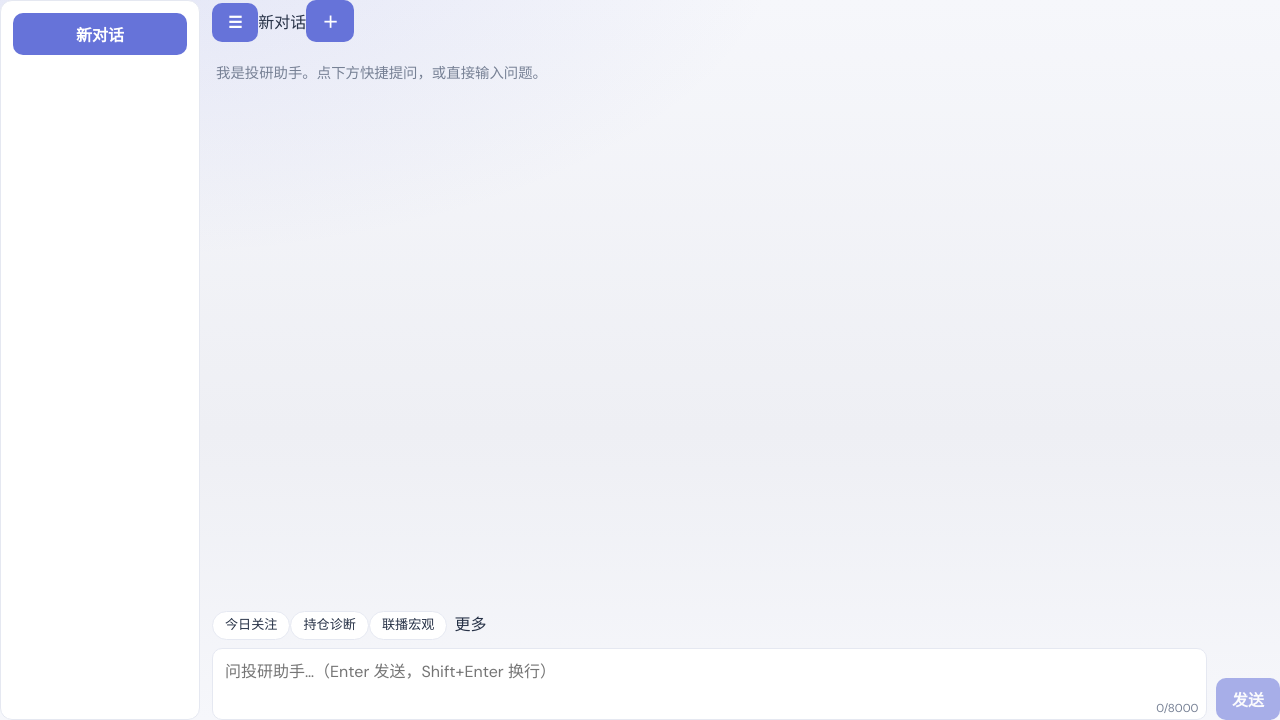
首个回答 token 后折叠进度，用户可展开且新对话会清空
Type "查数据" into the text box with placeholder "问投研助手…（Enter 发送，Shift+Enter 换行）". click: (710, 684)
box: [212,648,1207,719]
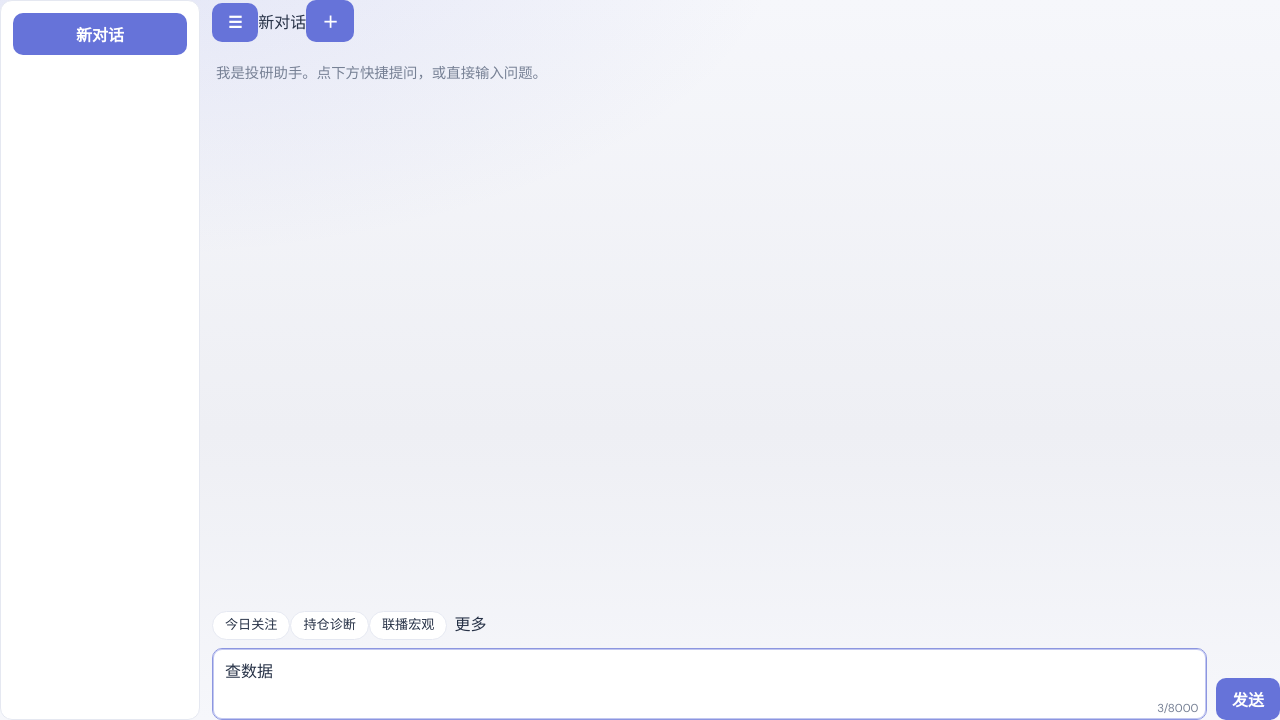
Click the button "发送". click: (1248, 699)
box: [1216,678,1279,719]
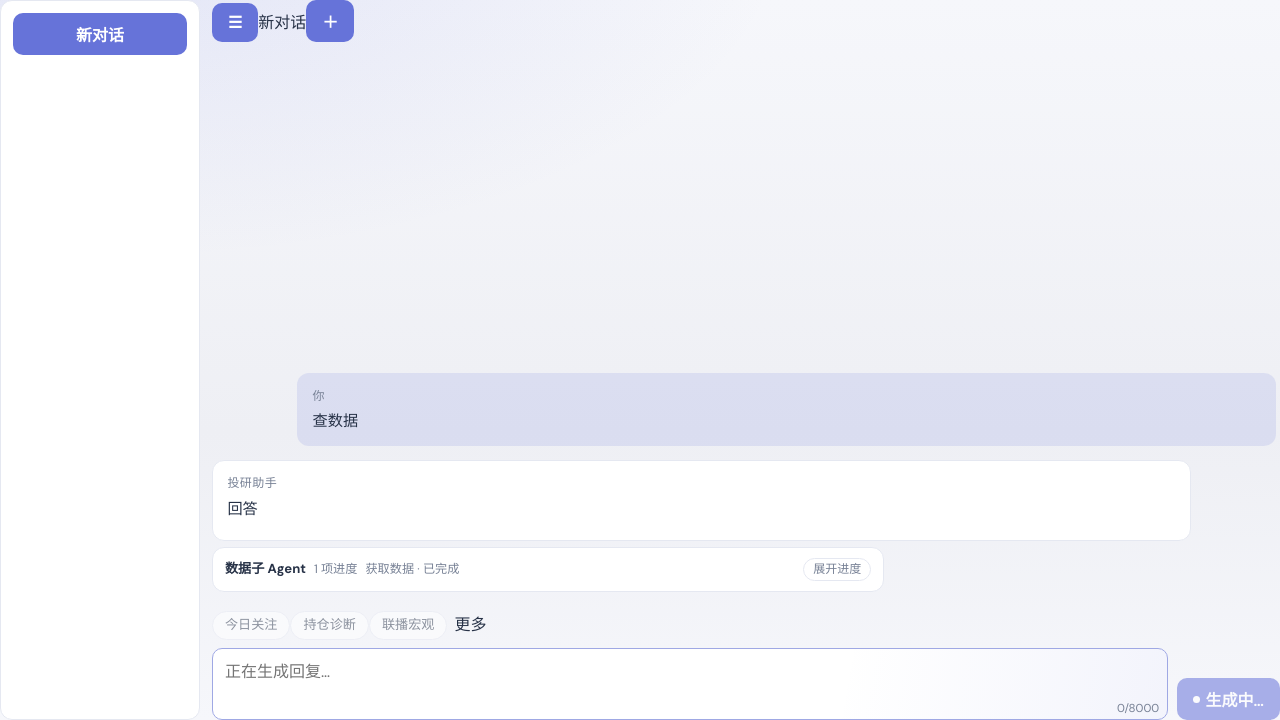
expect the text "stock_zh_index_daily_tx" is not shown: met
expect the button "展开进度" is shown: met
Click the button "展开进度". click: (837, 570)
box: [803,558,871,581]
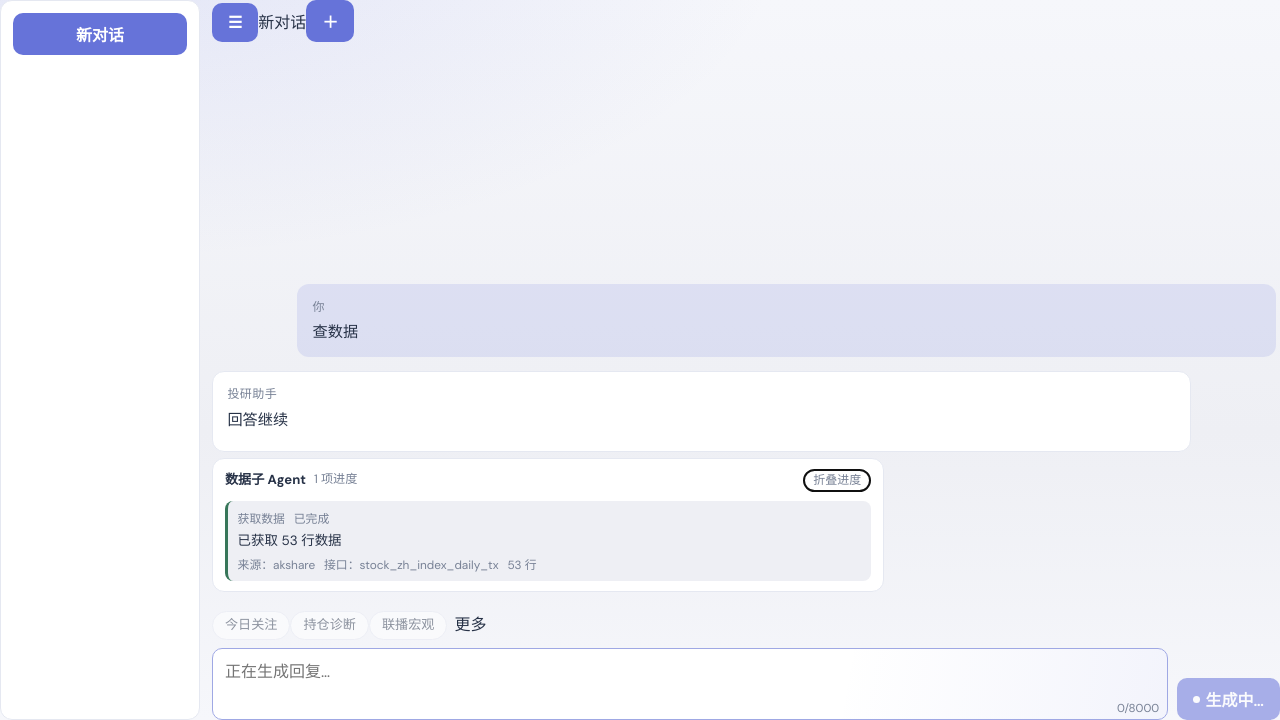
expect the text "接口：stock_zh_index_daily_tx" is shown: met, box [324,555,499,573]
Click the button "新对话". click: (100, 34)
box: [13,13,187,55]
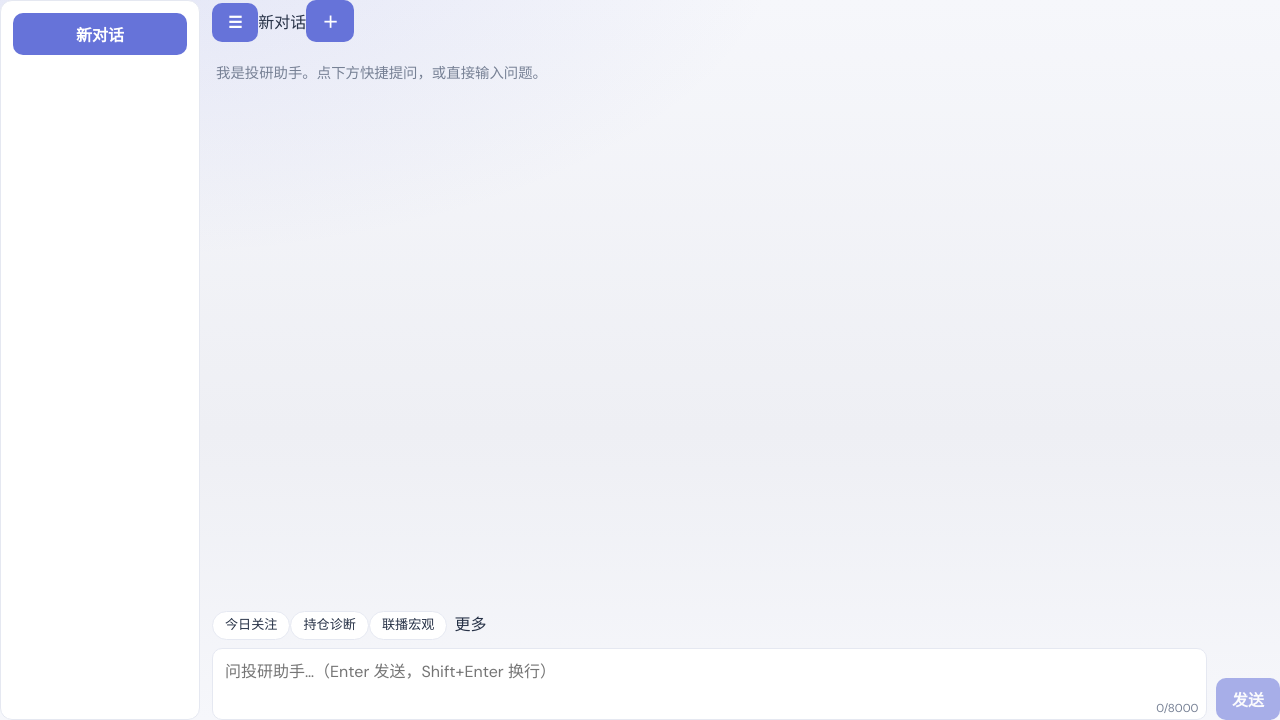
expect the text "stock_zh_index_daily_tx" is gone: met
